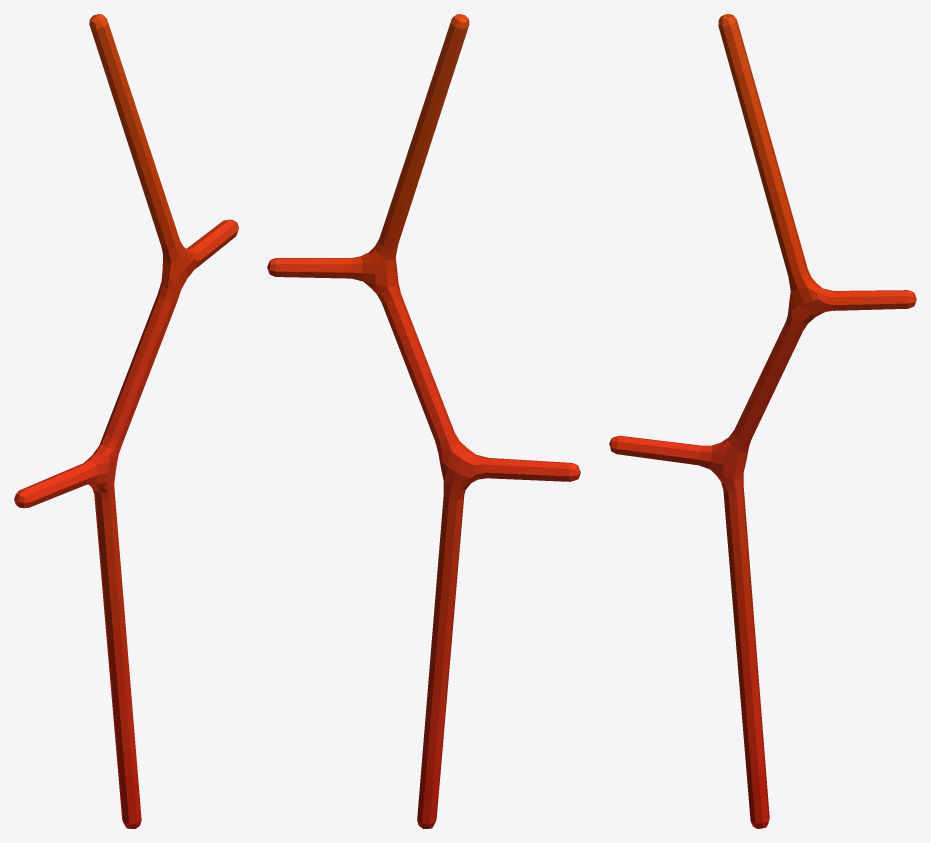
The model's file is Tree_14.fbx.
The picture shows the model from 3 angles, left to right: view 1: azimuth 30°, elevation 25°; view 2: azimuth 150°, elevation 25°; view 3: azimuth 330°, elevation 25°; orthographic projection.
Parts seen in each view (by area): view 1: Tree_14; view 2: Tree_14; view 3: Tree_14.
Boxes of the visible parts, bbox=[...] form: Tree_14: bbox=[14, 14, 238, 828]; Tree_14: bbox=[267, 14, 580, 828]; Tree_14: bbox=[609, 14, 916, 828].
Size of the model in its own units: 135 by 398 by 47.56.
1 material, 1 textured.
